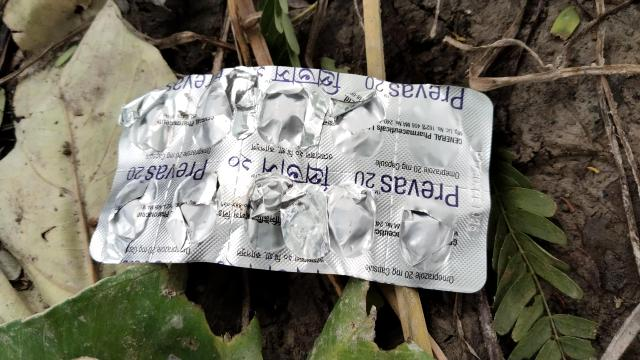medicine: (83, 65, 507, 293)
